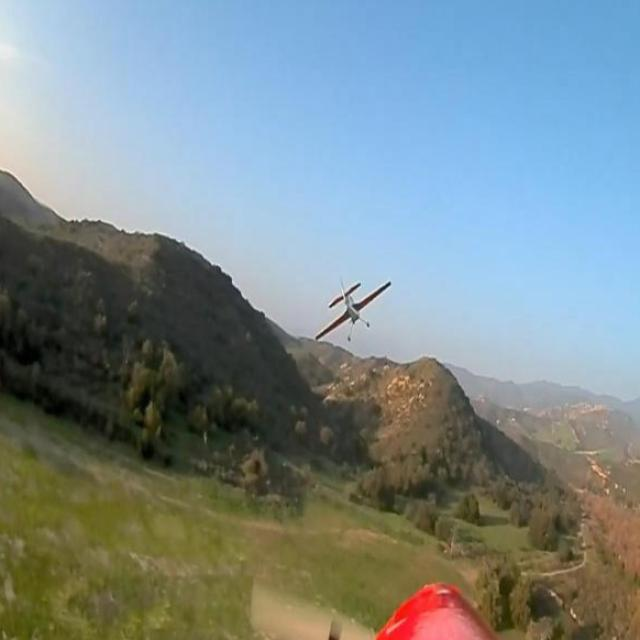plane: (314, 277, 392, 343)
